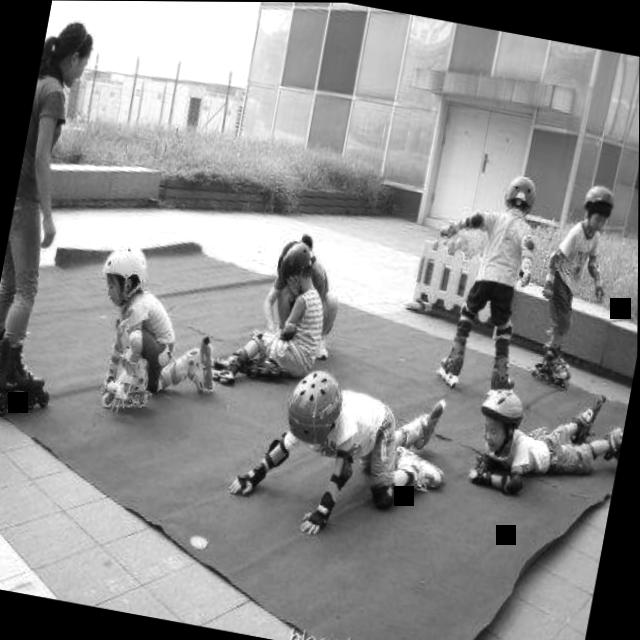Fall-Detected: (209, 219, 342, 398)
